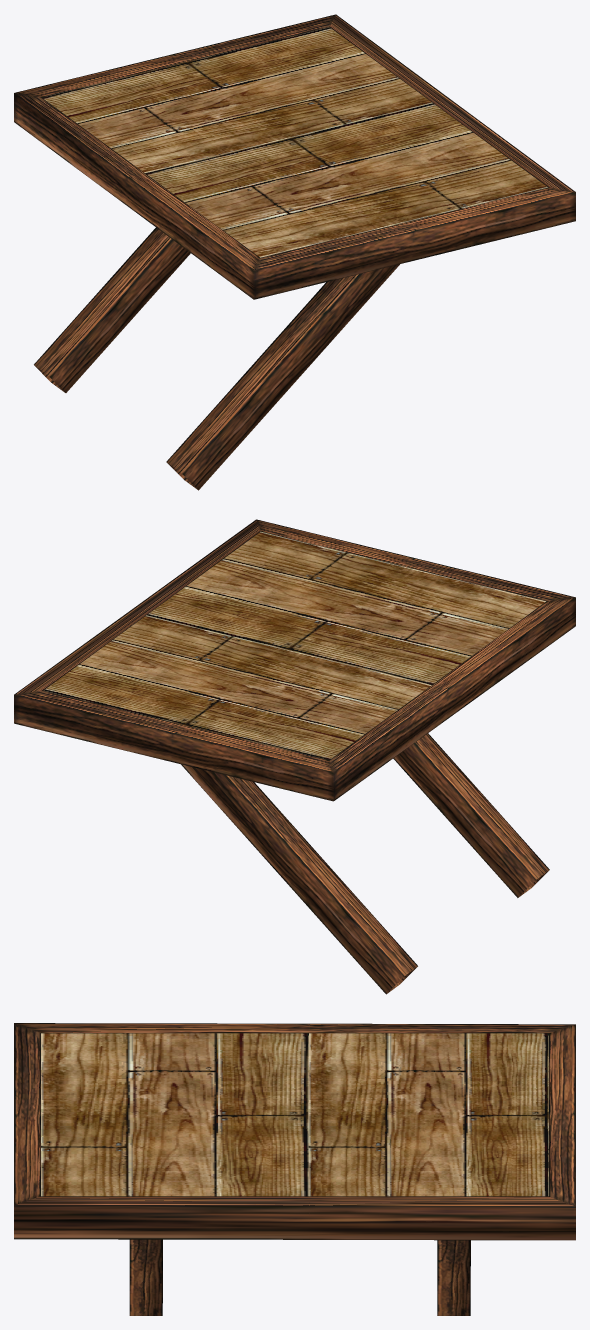
File: LAKETOWN_WAREHOUSE2_PS_WH2_PLARFORM84847__GX.fbx
3 views of the same model, one above another, from view 1: azimuth 30°, elevation 25°; view 2: azimuth 150°, elevation 25°; view 3: azimuth 270°, elevation 25° (orthographic). The views are drawn at different scales.
Parts seen in each view (by area): view 1: LAKETOWN_WAREHOUSE2_PS_WH2_PLARFORM84847__GX; view 2: LAKETOWN_WAREHOUSE2_PS_WH2_PLARFORM84847__GX; view 3: LAKETOWN_WAREHOUSE2_PS_WH2_PLARFORM84847__GX.
Part boxes in pixels (bbox=[...]): LAKETOWN_WAREHOUSE2_PS_WH2_PLARFORM84847__GX: bbox=[14, 14, 575, 490]; LAKETOWN_WAREHOUSE2_PS_WH2_PLARFORM84847__GX: bbox=[14, 519, 575, 994]; LAKETOWN_WAREHOUSE2_PS_WH2_PLARFORM84847__GX: bbox=[14, 1023, 575, 1315].
Bounding box in the file's own units: 24473 × 17146 × 29507.
2 materials, 2 textured.
